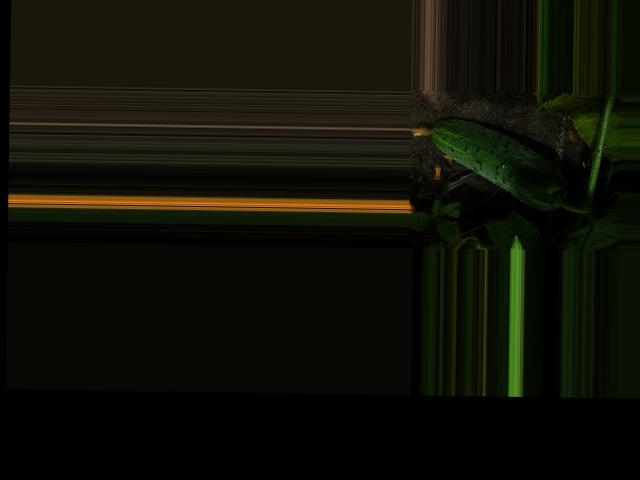cucumber: (409, 116, 568, 211)
